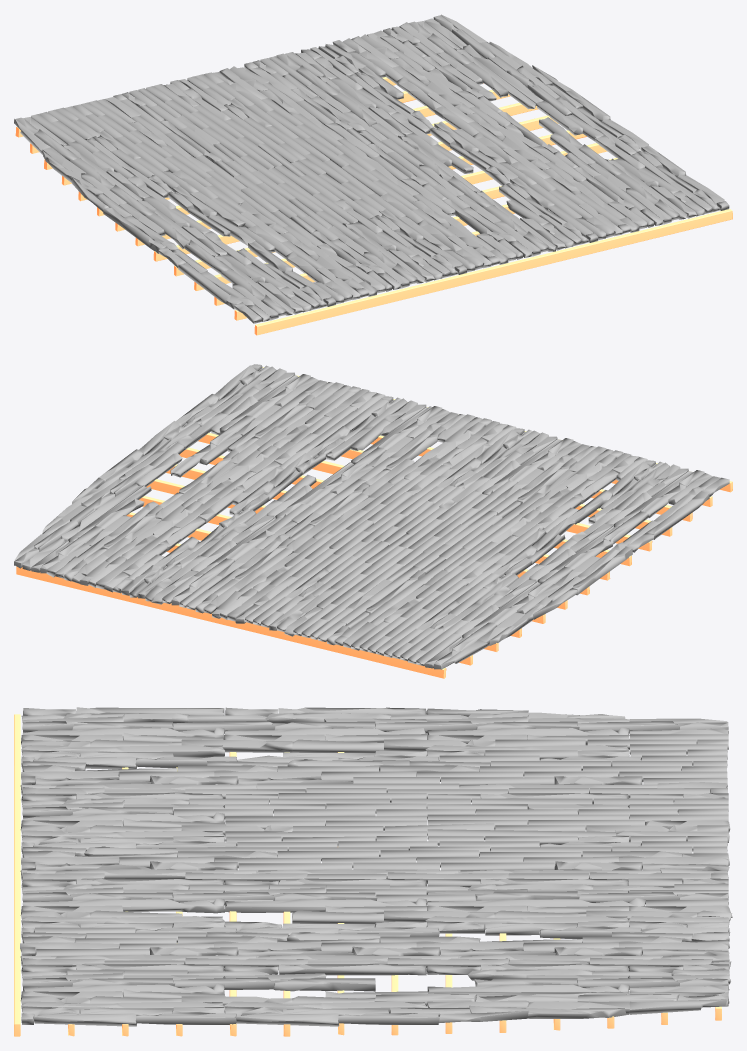
Rendered from SM_Floor_MainDeck.fbx.
The picture shows the model from 3 angles, top to bottom: view 1: azimuth 30°, elevation 25°; view 2: azimuth 150°, elevation 25°; view 3: azimuth 270°, elevation 25°; orthographic projection. The views are drawn at different scales.
Parts seen in each view (by area): view 1: SM_Floor_MainDeck_LOD0; view 2: SM_Floor_MainDeck_LOD0; view 3: SM_Floor_MainDeck_LOD0.
Part boxes in pixels (bbox=[...]): SM_Floor_MainDeck_LOD0: bbox=[14, 14, 732, 335]; SM_Floor_MainDeck_LOD0: bbox=[14, 364, 732, 678]; SM_Floor_MainDeck_LOD0: bbox=[14, 707, 732, 1036].
Size of the model in its own units: 1096 by 1066 by 38.46.
